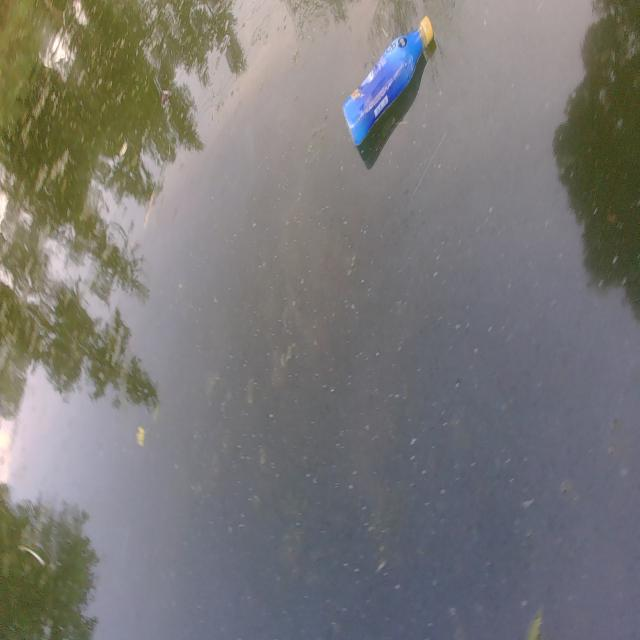Bottle: (342, 14, 435, 148)
